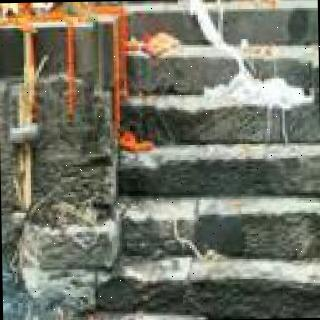fire: (0, 2, 53, 23)
